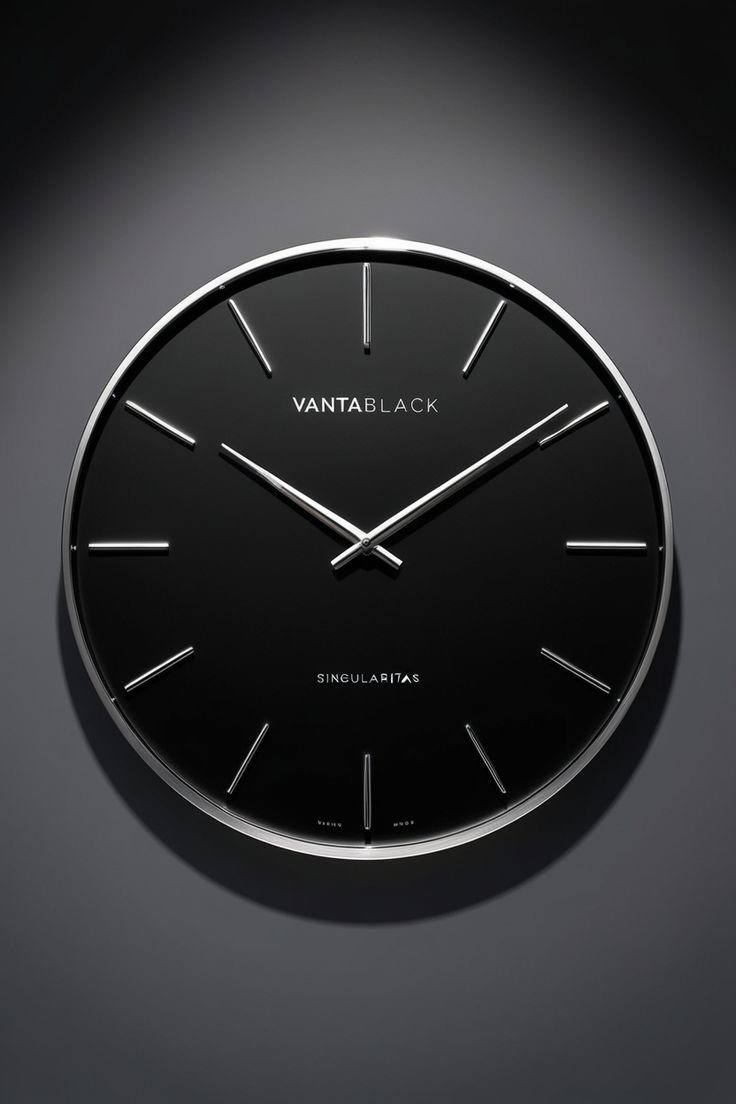clock: (52, 149, 690, 908)
